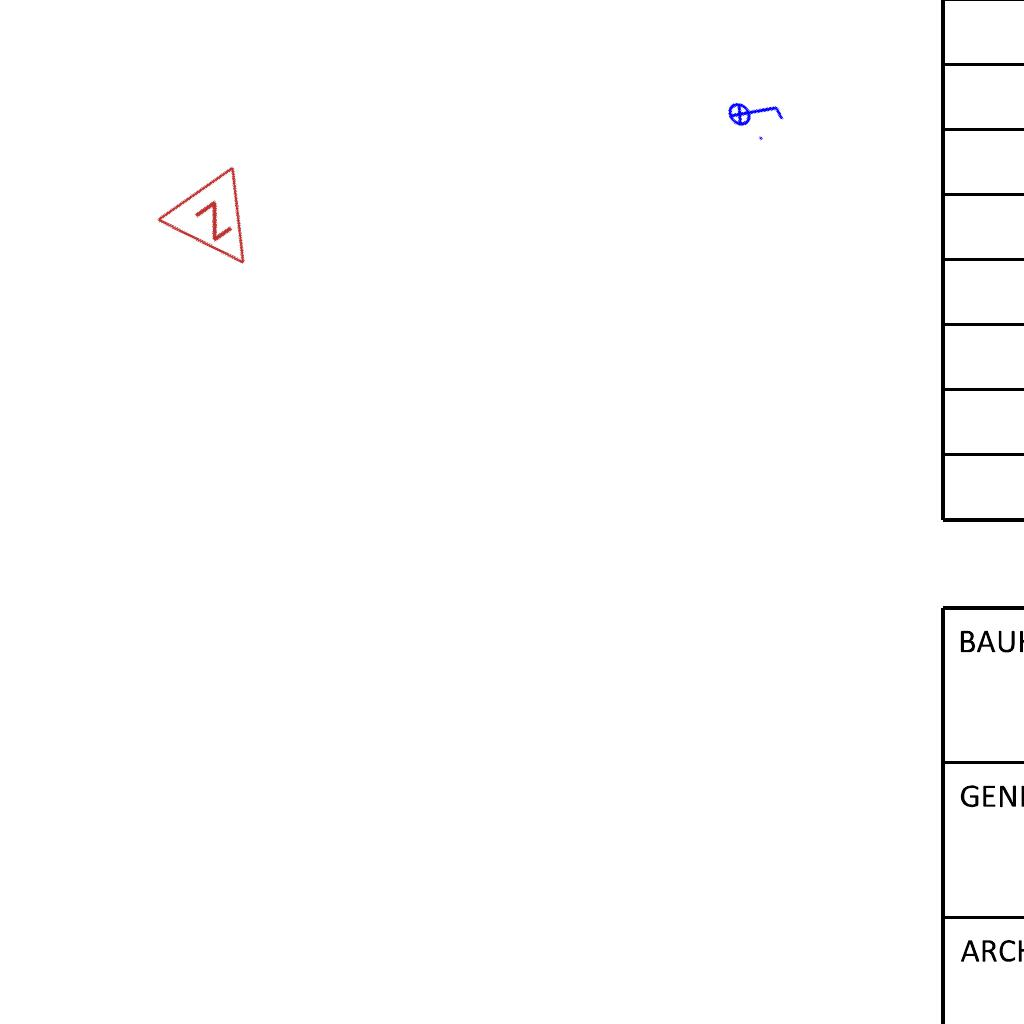Ausschalter_beleuchtet: (718, 75, 792, 149)
Zimmersignalleuchte: (151, 157, 289, 297)
